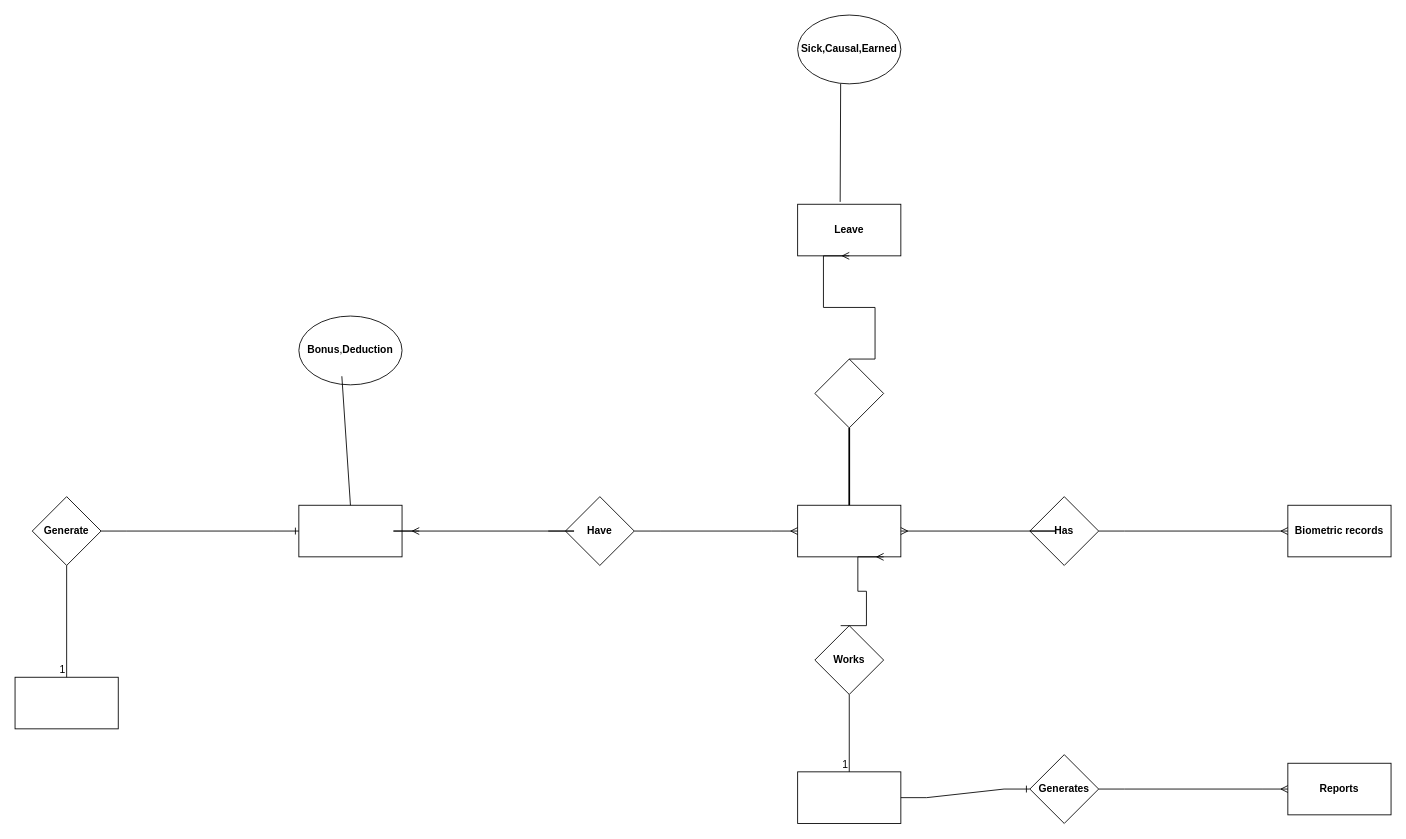
This 1406x839 diagram has some shape labels left out. Each missing label, with the centre of its shape:
Applies: the point at 849,393
Employee: the point at 849,530
HR: the point at 849,797
Pay roll: the point at 350,530
Payslip: the point at 66,702
